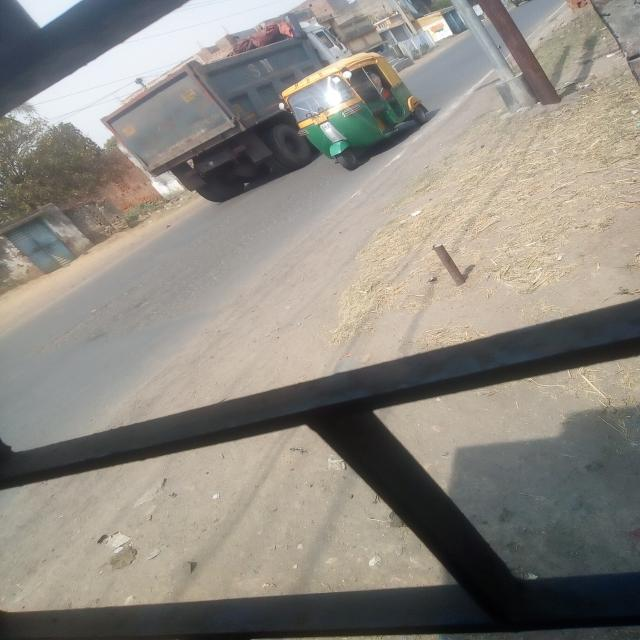auto_front: (277, 43, 434, 179)
truck_back: (96, 10, 378, 204)
